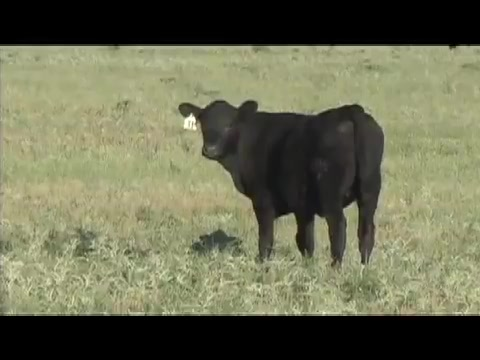cow: (180, 96, 386, 269)
